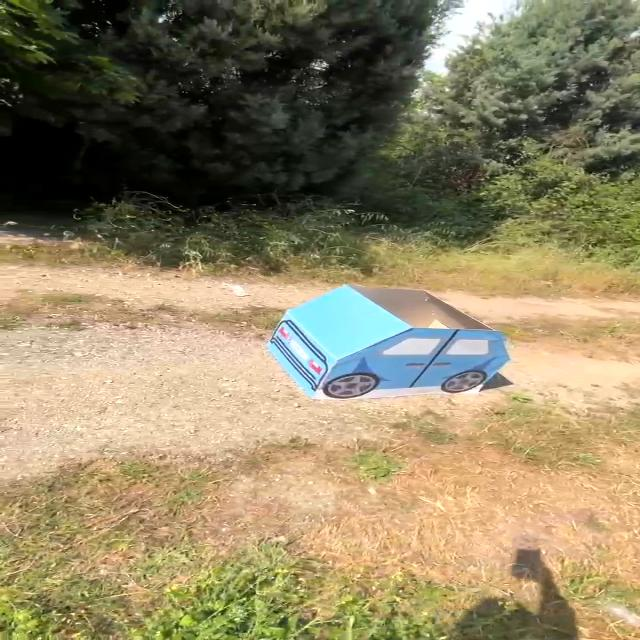blue_car: (239, 276, 531, 410)
